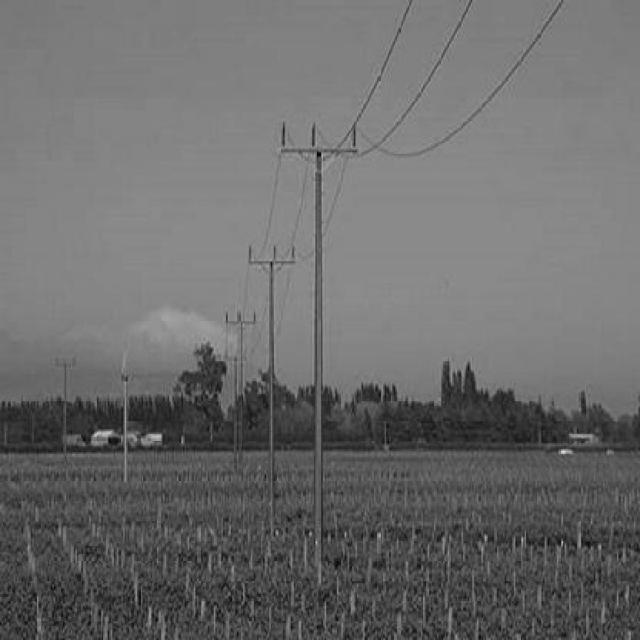Pole: (280, 125, 358, 571), (249, 248, 295, 530), (225, 314, 256, 478)
